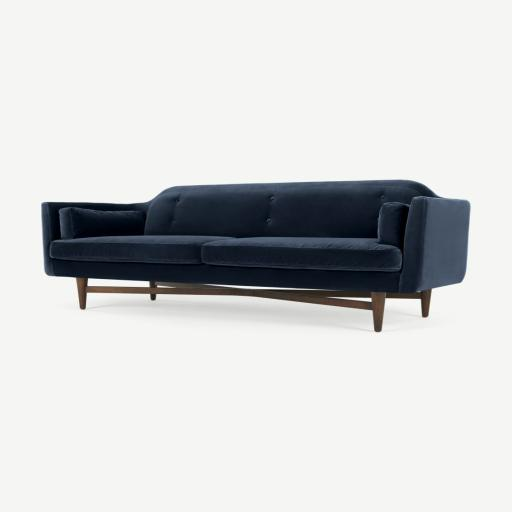back_cushion: (145, 182, 416, 238)
base: (53, 259, 446, 292)
left_arm: (400, 197, 470, 292)
legs: (76, 277, 431, 332)
right_arm: (42, 202, 141, 275)
seat_cushion: (51, 235, 401, 271)
two-seater: (0, 0, 511, 512)
